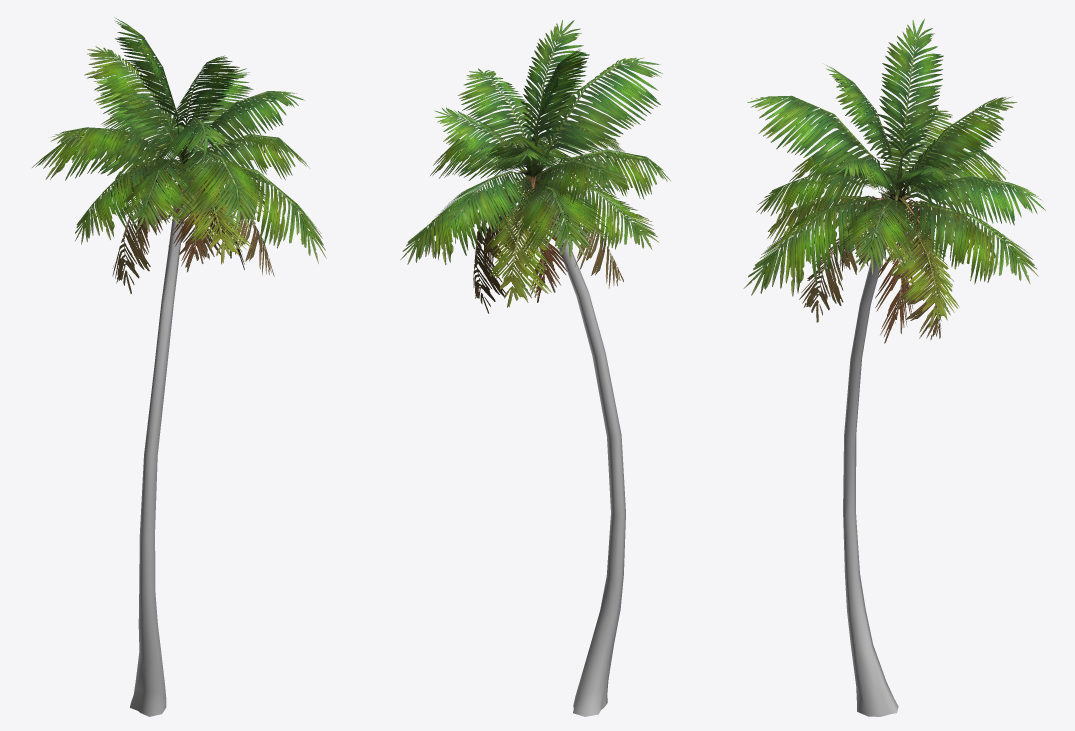
The model's file is SV_PLT_senlin_tree_8.FBX.
3 views of the same model, side by side, from view 1: azimuth 30°, elevation 25°; view 2: azimuth 150°, elevation 25°; view 3: azimuth 270°, elevation 25° (orthographic).
Parts seen in each view (by area): view 1: SV_PLT_senlin_tree_8_leaf, SV_PLT_senglin_tree_8_trunk; view 2: SV_PLT_senlin_tree_8_leaf, SV_PLT_senglin_tree_8_trunk; view 3: SV_PLT_senlin_tree_8_leaf, SV_PLT_senglin_tree_8_trunk.
Part boxes in pixels (x1,y1,x2,y2): SV_PLT_senlin_tree_8_leaf: [32, 17, 326, 293]; SV_PLT_senglin_tree_8_trunk: [130, 190, 187, 716]; SV_PLT_senlin_tree_8_leaf: [400, 20, 670, 313]; SV_PLT_senglin_tree_8_trunk: [536, 193, 625, 716]; SV_PLT_senlin_tree_8_leaf: [743, 18, 1045, 343]; SV_PLT_senglin_tree_8_trunk: [843, 212, 898, 716].
Bounding box in the file's own units: 5.52 × 14.06 × 6.34.
